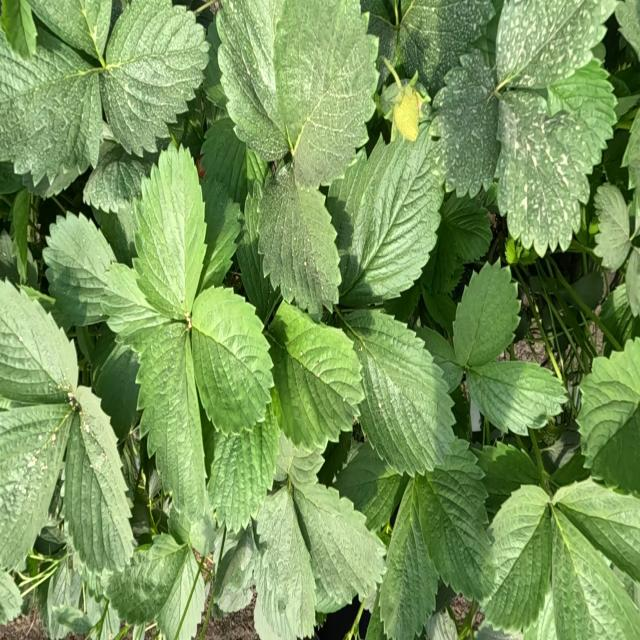Leaves: (275, 1, 377, 187), (340, 310, 455, 474), (348, 126, 444, 305), (104, 1, 207, 153), (498, 92, 593, 254), (140, 321, 208, 541), (0, 39, 102, 183), (269, 305, 362, 450), (63, 387, 132, 580), (133, 145, 206, 318), (292, 475, 382, 611), (1, 401, 74, 568), (418, 441, 493, 601), (259, 169, 340, 317), (191, 289, 273, 432), (216, 2, 287, 161), (552, 514, 640, 639), (498, 0, 616, 87), (482, 486, 552, 631), (433, 49, 499, 194), (0, 283, 78, 404), (578, 338, 639, 492), (255, 489, 315, 639), (380, 482, 437, 639), (553, 478, 639, 581), (400, 0, 494, 92), (209, 409, 278, 530), (43, 214, 115, 324), (200, 116, 246, 288), (467, 360, 567, 433), (104, 534, 185, 622), (453, 262, 519, 367), (335, 442, 405, 528), (548, 57, 617, 142), (102, 264, 166, 342), (25, 1, 111, 58), (158, 548, 208, 639), (214, 523, 262, 614), (94, 345, 139, 439), (84, 147, 149, 211), (44, 553, 90, 638), (438, 194, 491, 260), (477, 443, 539, 499), (593, 184, 630, 270), (415, 327, 463, 392), (423, 235, 454, 294), (423, 290, 456, 344), (12, 188, 30, 283), (572, 273, 603, 307)
Strawberries: (393, 88, 419, 139)
